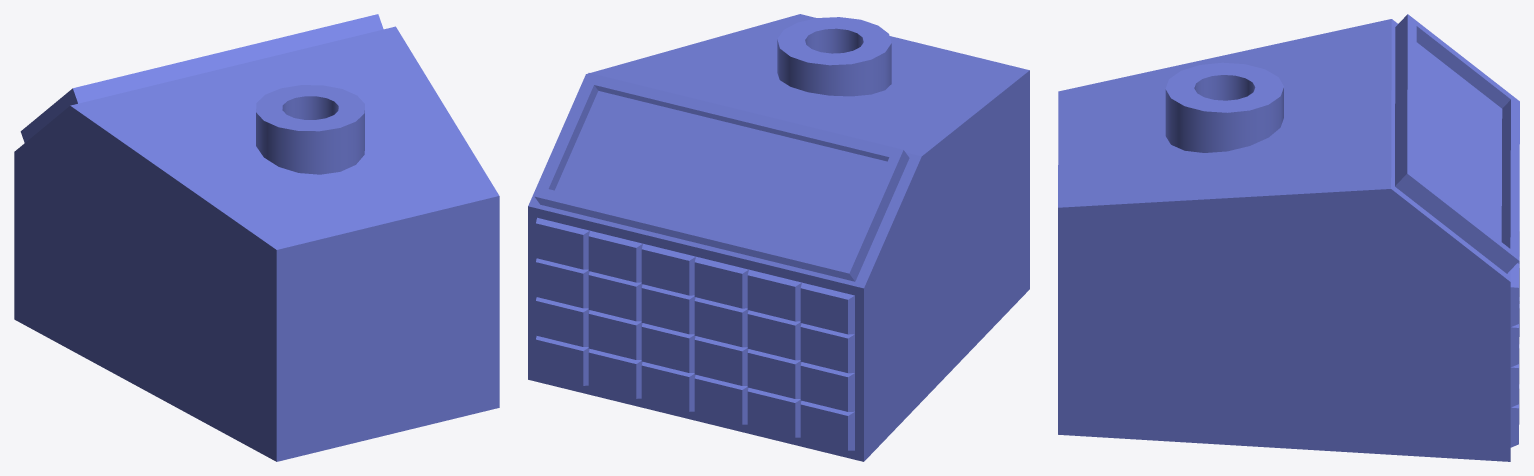
The model's file is dna_analyzer.glb.
3 renders of one model, left to right at view 1: azimuth 30°, elevation 25°; view 2: azimuth 150°, elevation 25°; view 3: azimuth 270°, elevation 25°, orthographic. The views are drawn at different scales.
Parts seen in each view (by area): view 1: Cube.071; view 2: Cube.071; view 3: Cube.071.
Boxes of the visible parts, left/top/right/bottom form: Cube.071: left=14, top=14, right=499, bottom=461; Cube.071: left=528, top=14, right=1029, bottom=461; Cube.071: left=1058, top=14, right=1519, bottom=461.
Bounding box in the file's own units: 0.8608 × 0.6818 × 0.9878.
